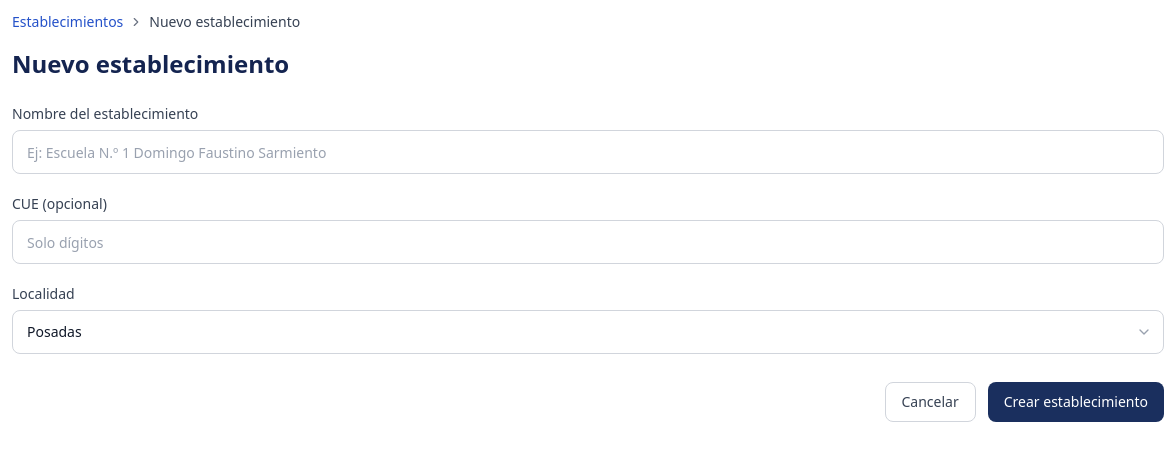
Test: EstablecimientoFormPage: alta › con un CUE que no son solo dígitos muestra un error y no guarda (criterio 5)
Type "Escuela Nueva" into the field labelled "Nombre del establecimiento". click: {"x": 588, "y": 152}
box: [12,130,1164,174]
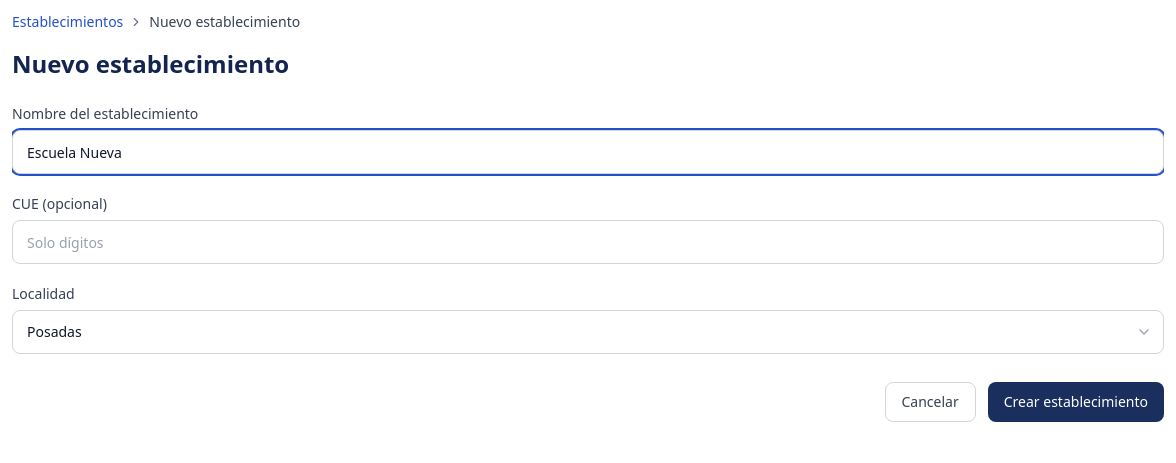
Type "54A0123" into the field labelled "CUE (opcional)". click: {"x": 588, "y": 242}
box: [12,220,1164,264]
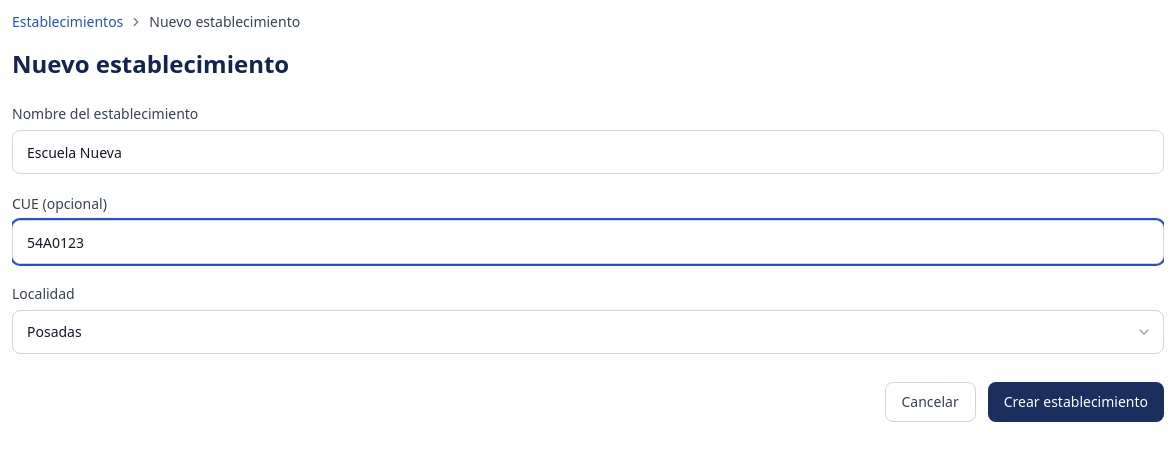
Click the button "Crear establecimiento". click: {"x": 1076, "y": 402}
box: [988,382,1164,422]
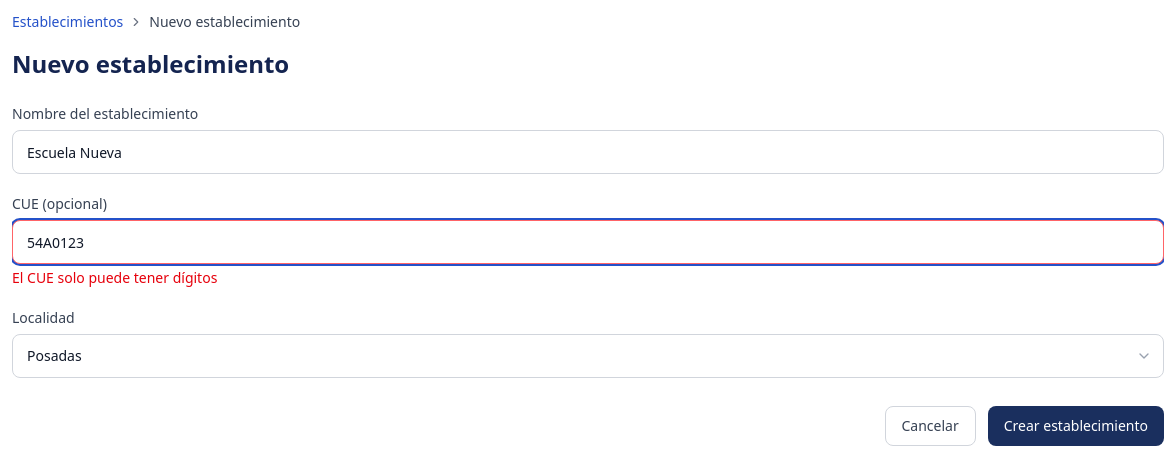
Result: the message "El CUE solo puede tener dígitos" is shown at [12,268,217,287]
